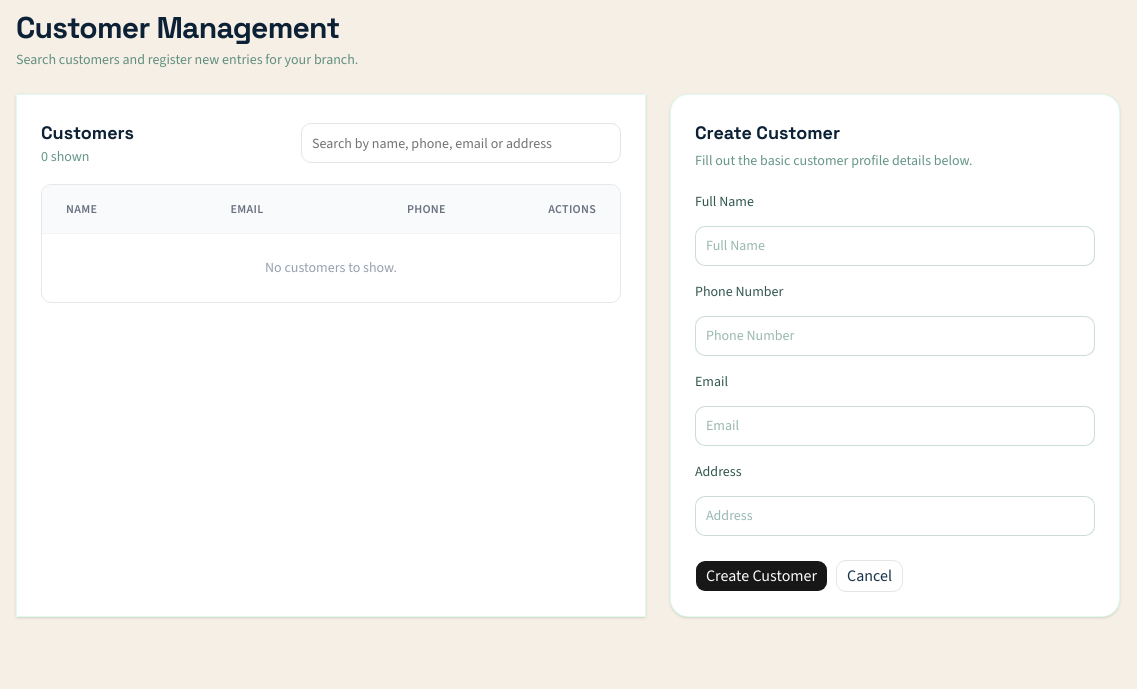
Scenario: CreateCustomerForm › shows root error on generic API error
The width and height of the screenshot is (1137, 689).
In the field labelled "Full Name": (895, 246) [695,226,1095,266], type "John Doe"
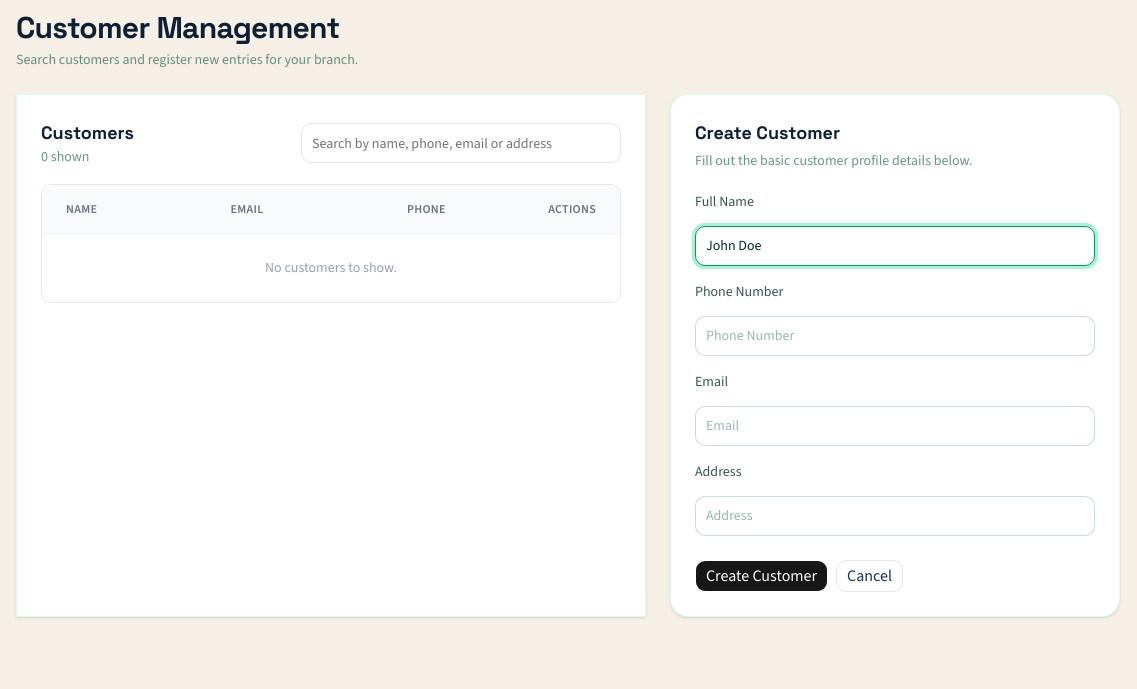
In the field labelled "Phone Number": (895, 336) [695,316,1095,356], type "1234567890"
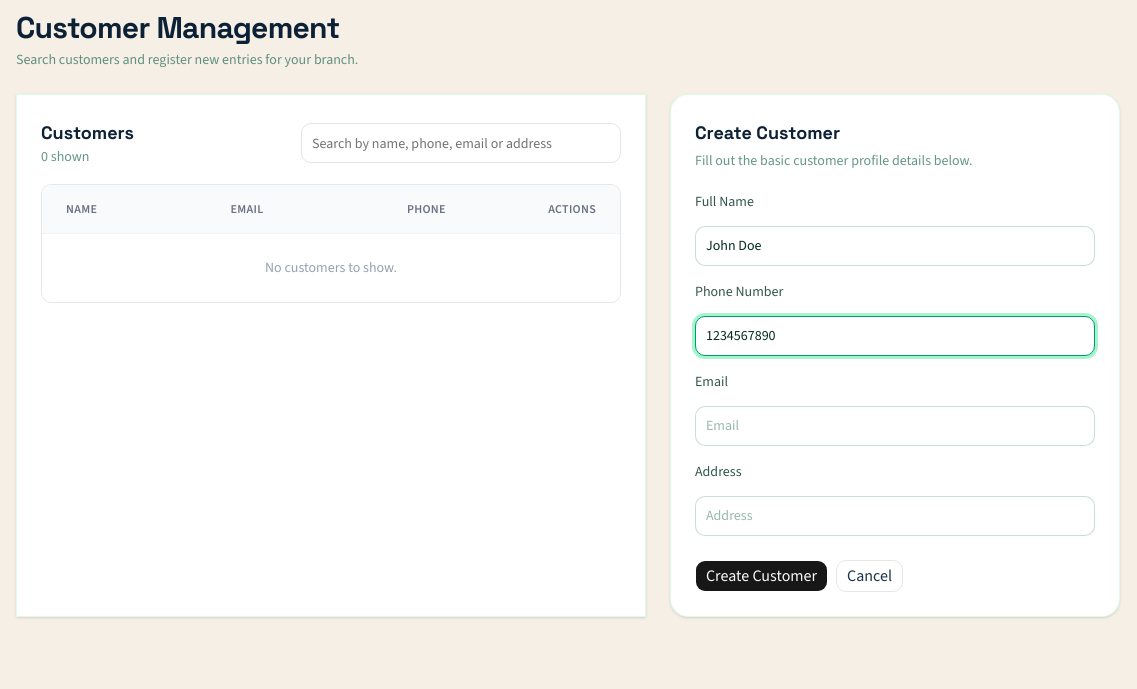
Click the button "Create Customer": (762, 576) [695,560,828,592]
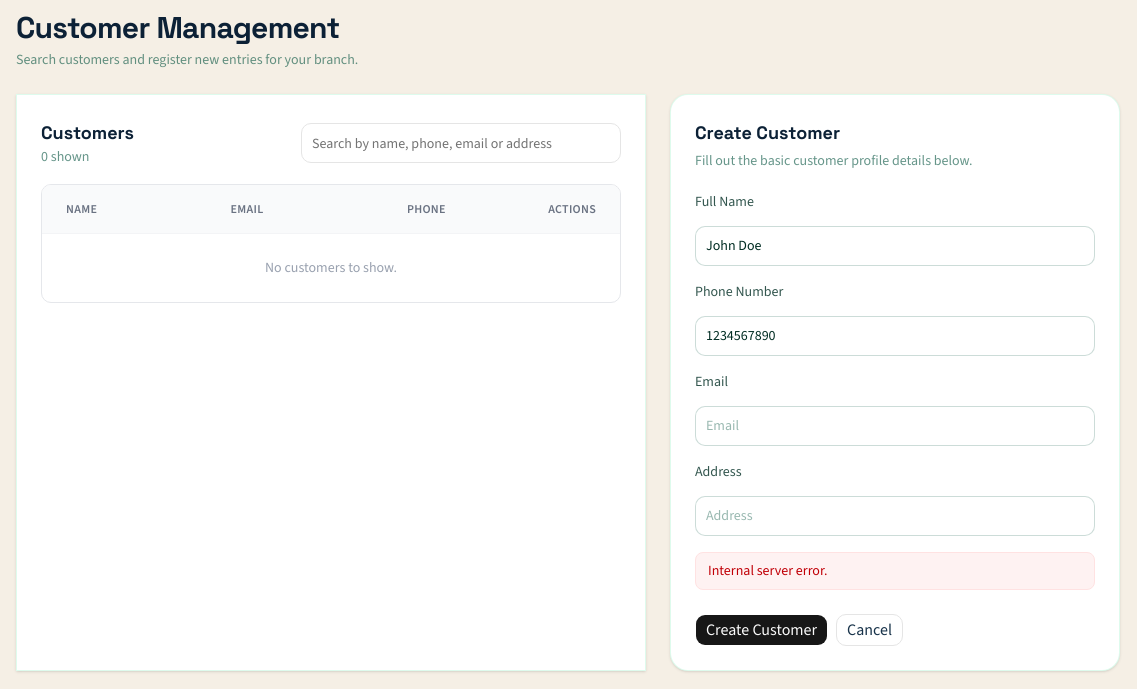
Expected: the text "Internal server error." is shown, [695,552,1095,590]
